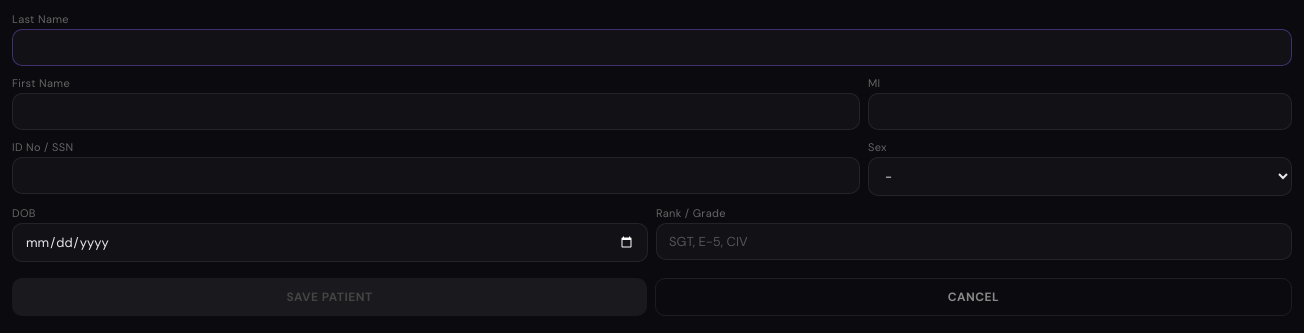
Test: PatientForm validation › enables save when both names are filled
In the field below "Last Name": [652, 48] box 12,29 -> 1292,66, type "RIVERA"
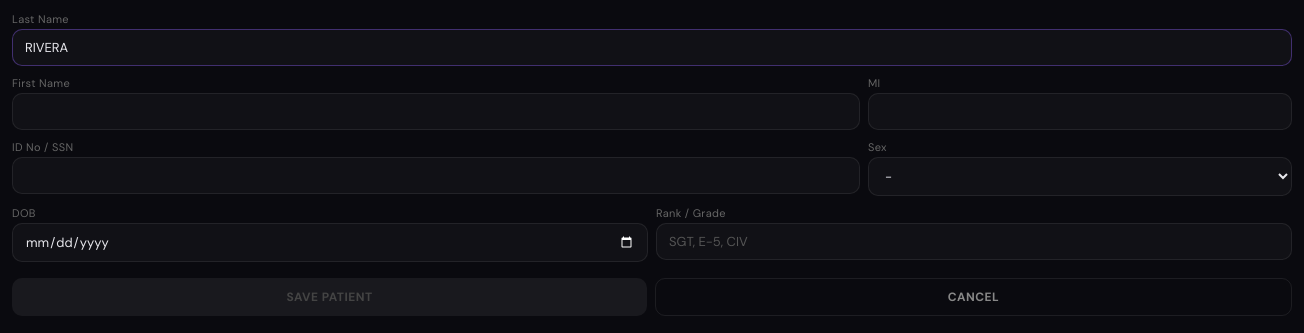
In the field below "First Name": [436, 112] box 12,93 -> 860,130, type "Justin"
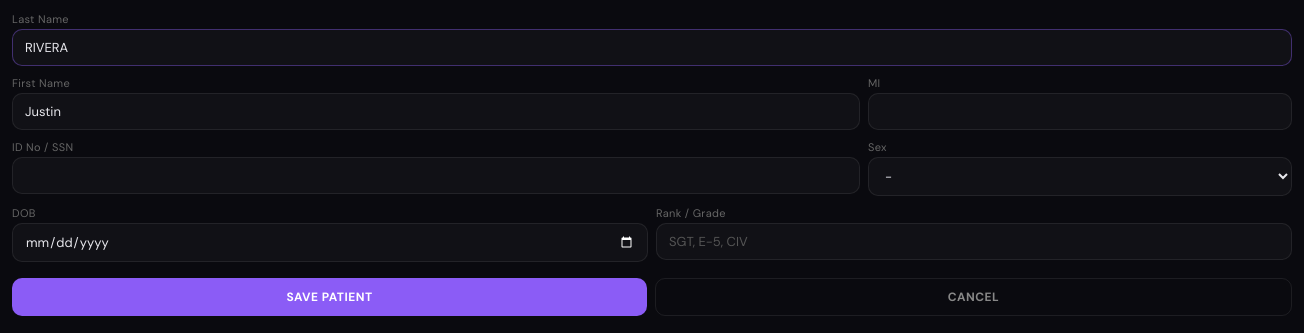
Result: the button "SAVE PATIENT" is enabled at 12,278 -> 647,316
